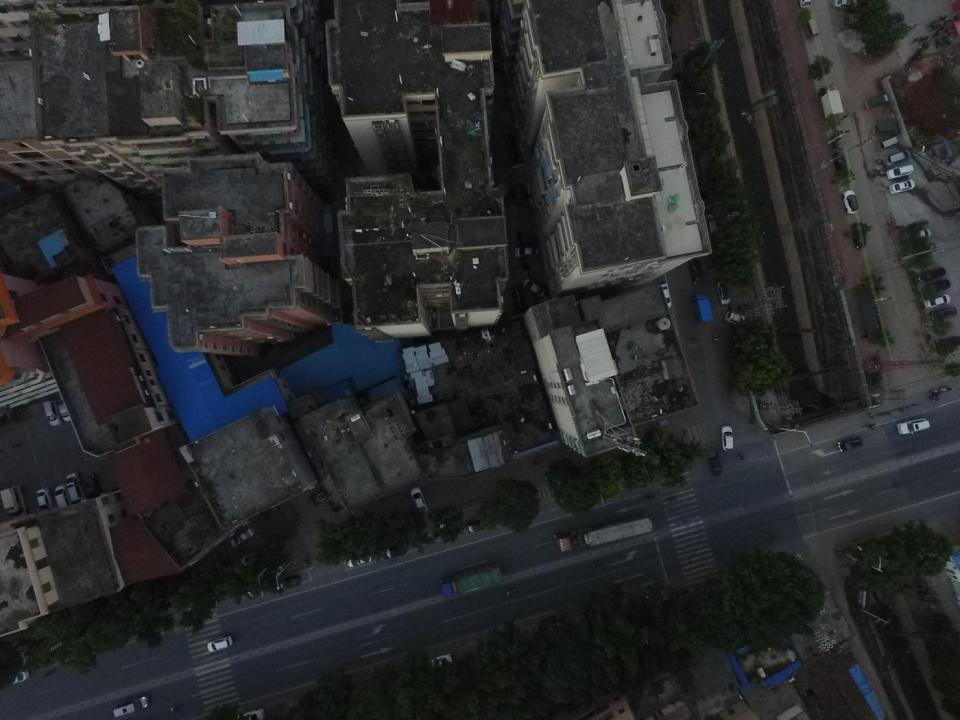car: (113, 695, 150, 718), (65, 471, 85, 508), (53, 483, 72, 517), (897, 417, 930, 435), (229, 528, 256, 549), (36, 486, 54, 517), (241, 551, 271, 569), (410, 485, 428, 514), (928, 304, 958, 321), (522, 278, 546, 298), (206, 635, 234, 652), (921, 278, 950, 294), (275, 574, 302, 591), (916, 267, 946, 282), (837, 435, 863, 452), (885, 165, 914, 180), (4, 670, 31, 686), (708, 448, 722, 478), (346, 552, 372, 568), (240, 583, 263, 601), (841, 190, 858, 214), (888, 180, 915, 195), (57, 397, 73, 422), (236, 707, 266, 720), (428, 654, 452, 670), (924, 294, 951, 308), (513, 245, 541, 258), (720, 425, 734, 451), (911, 228, 932, 240), (832, 0, 861, 8)
truck: (554, 517, 654, 553), (440, 559, 504, 599), (0, 483, 29, 519), (864, 93, 889, 111), (873, 122, 900, 136)
van: (42, 398, 61, 426), (883, 150, 911, 166), (878, 136, 900, 150)
